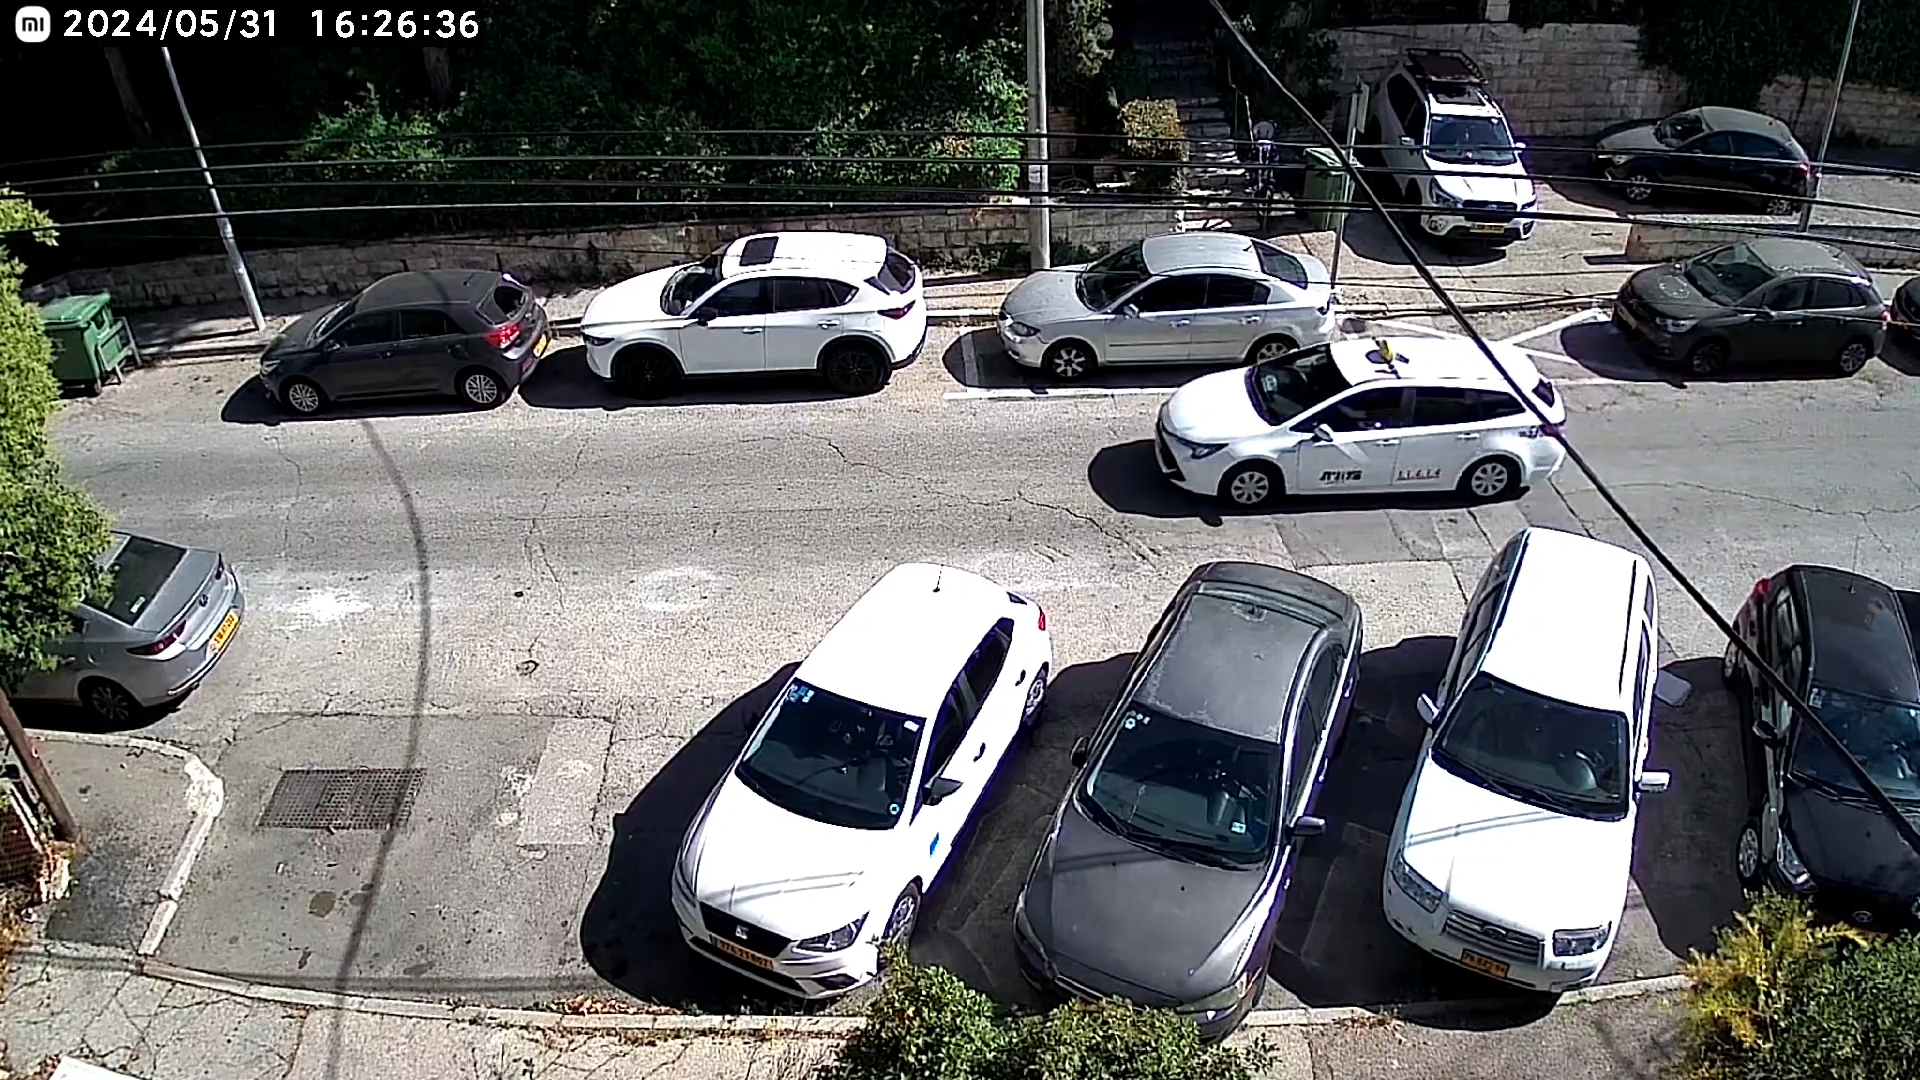moving car: (1155, 332, 1567, 516)
